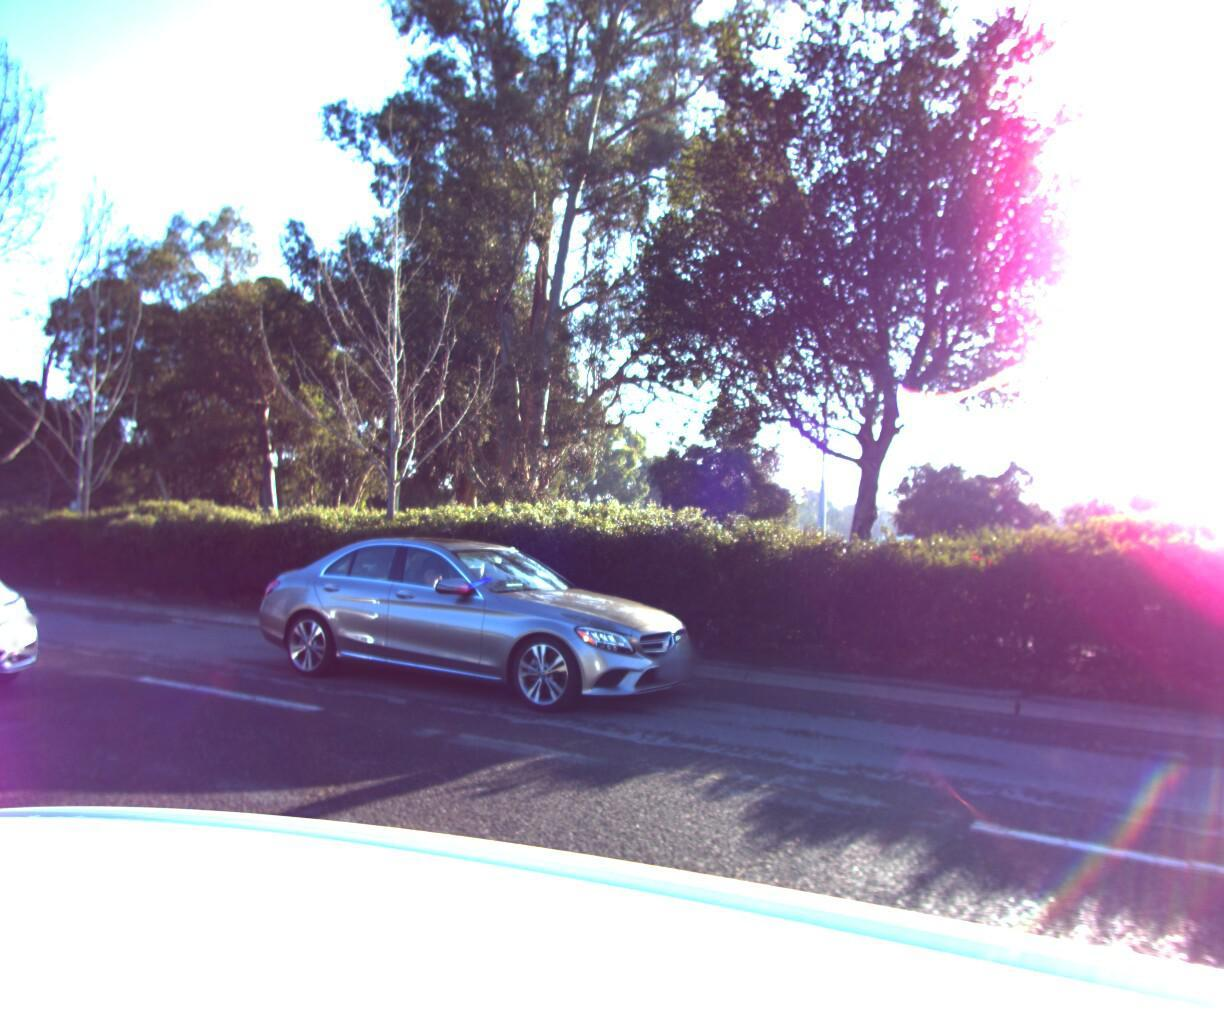car: (246, 530, 716, 731), (0, 504, 77, 740), (795, 526, 987, 615)
